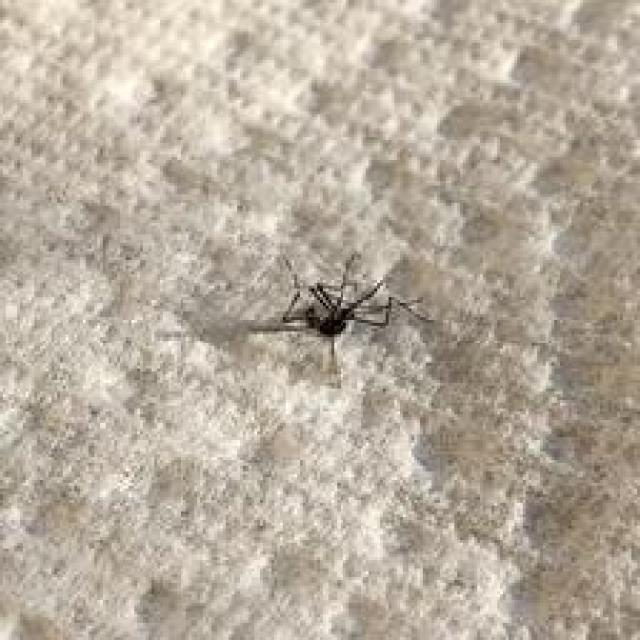Aedes albopictus: (246, 250, 434, 384)
